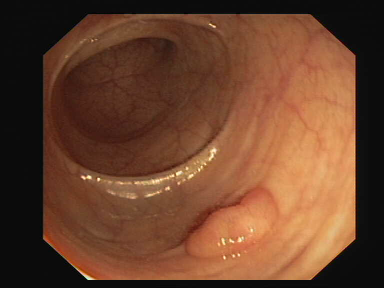polyp: (174, 178, 316, 255)
